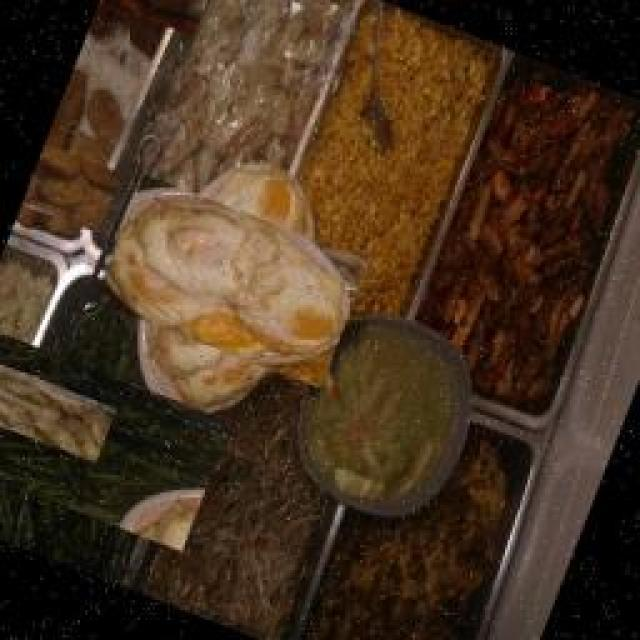chicken_nuggets: (20, 138, 118, 241)
chinese_cabbage: (0, 303, 88, 496)
fried_eggs: (110, 160, 355, 405)
mung_bean_sprouts: (143, 440, 336, 638)
triangle_hash_brown: (92, 0, 210, 45)
water_spinach: (0, 317, 215, 565)
